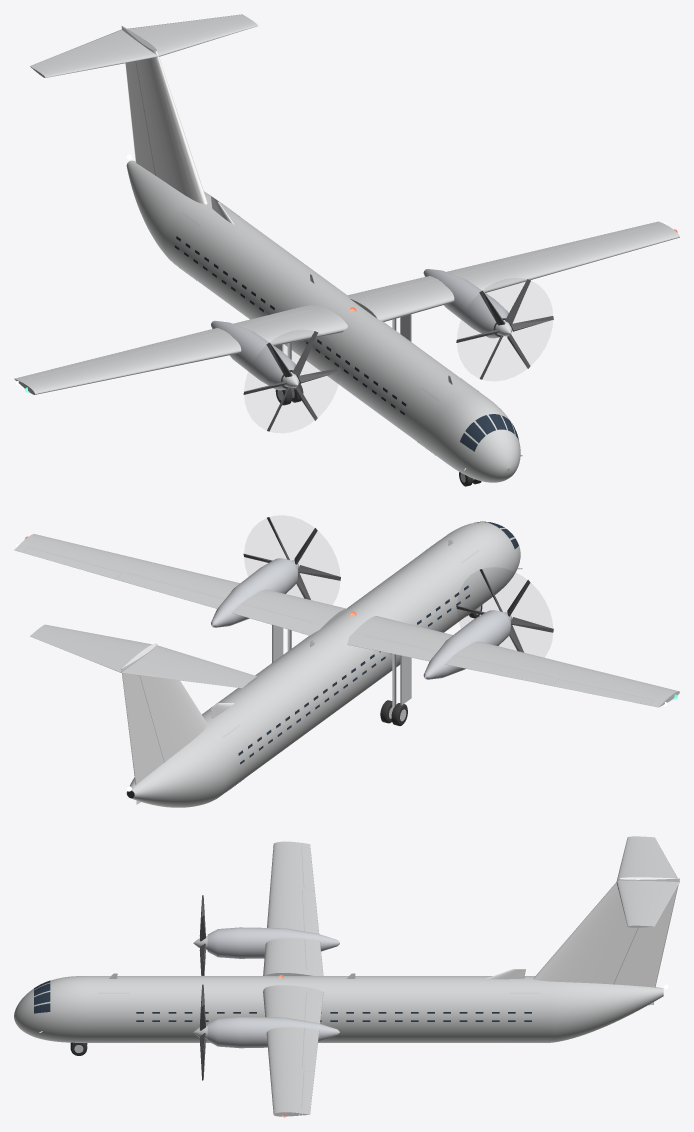
3 renders of one model, top to bottom at view 1: azimuth 30°, elevation 25°; view 2: azimuth 150°, elevation 25°; view 3: azimuth 270°, elevation 25°, orthographic. The views are drawn at different scales.
Parts seen in each view (by area): view 1: airframe, prop (×2), gear; view 2: airframe, gear, prop (×2); view 3: airframe.
Boxes of the visible parts, bbox=[...] form: airframe: bbox=[14, 14, 679, 482]; prop (×2): bbox=[243, 279, 553, 431]; gear: bbox=[275, 314, 481, 486]; airframe: bbox=[14, 521, 679, 807]; gear: bbox=[272, 605, 482, 725]; prop (×2): bbox=[243, 517, 553, 652]; airframe: bbox=[14, 836, 679, 1117].
Size of the model in its own units: 21.24 by 6.32 by 21.84.
